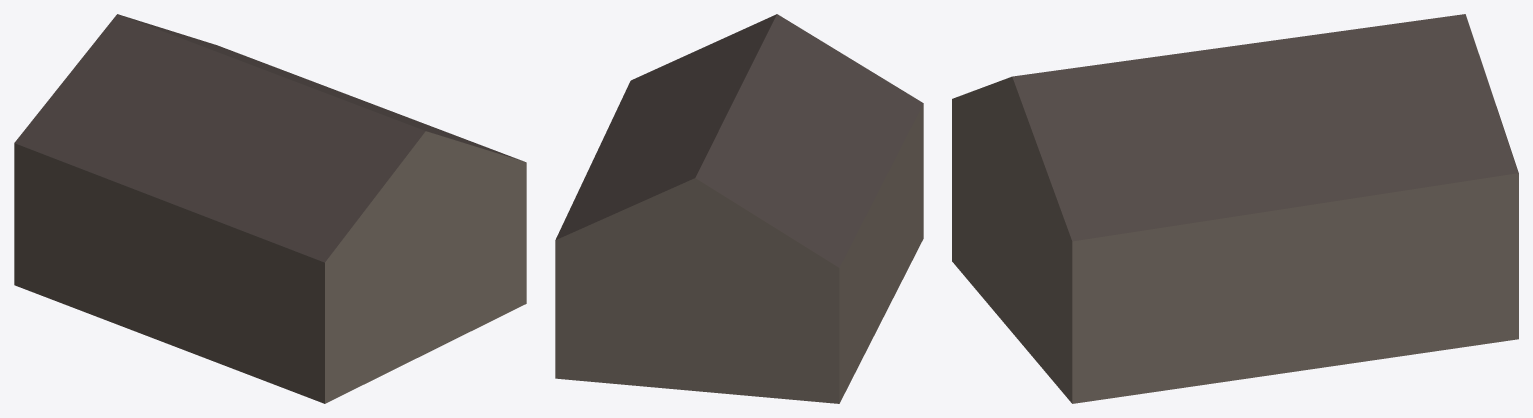
3 renders of one model, left to right at view 1: azimuth 30°, elevation 25°; view 2: azimuth 150°, elevation 25°; view 3: azimuth 270°, elevation 25°, orthographic. The views are drawn at different scales.
Visible parts, largest first — view 1: HP-w1198645049; view 2: HP-w1198645049; view 3: HP-w1198645049.
Boxes of the visible parts, x1,y1,x2,y2 form: HP-w1198645049: (14,14,526,403); HP-w1198645049: (555,14,923,403); HP-w1198645049: (952,14,1518,403).
Size of the model in its own units: 16.24 by 9.46 by 18.97.
